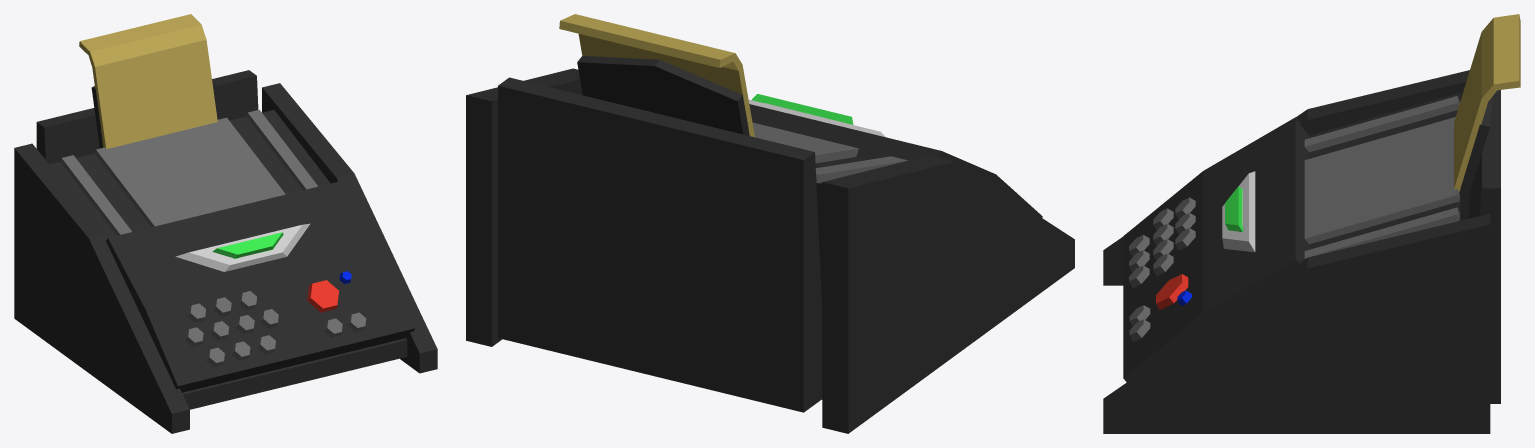
File: FaxPiece.fbx
The picture shows the model from 3 angles, left to right: view 1: azimuth 30°, elevation 25°; view 2: azimuth 150°, elevation 25°; view 3: azimuth 270°, elevation 25°; orthographic projection. The views are drawn at different scales.
Parts seen in each view (by area): view 1: Fax; view 2: Fax; view 3: Fax.
Part boxes in pixels (bbox=[...]): Fax: bbox=[14, 14, 437, 433]; Fax: bbox=[466, 14, 1074, 433]; Fax: bbox=[1103, 14, 1520, 433].
Size of the model in its own units: 961 by 864 by 1064.
